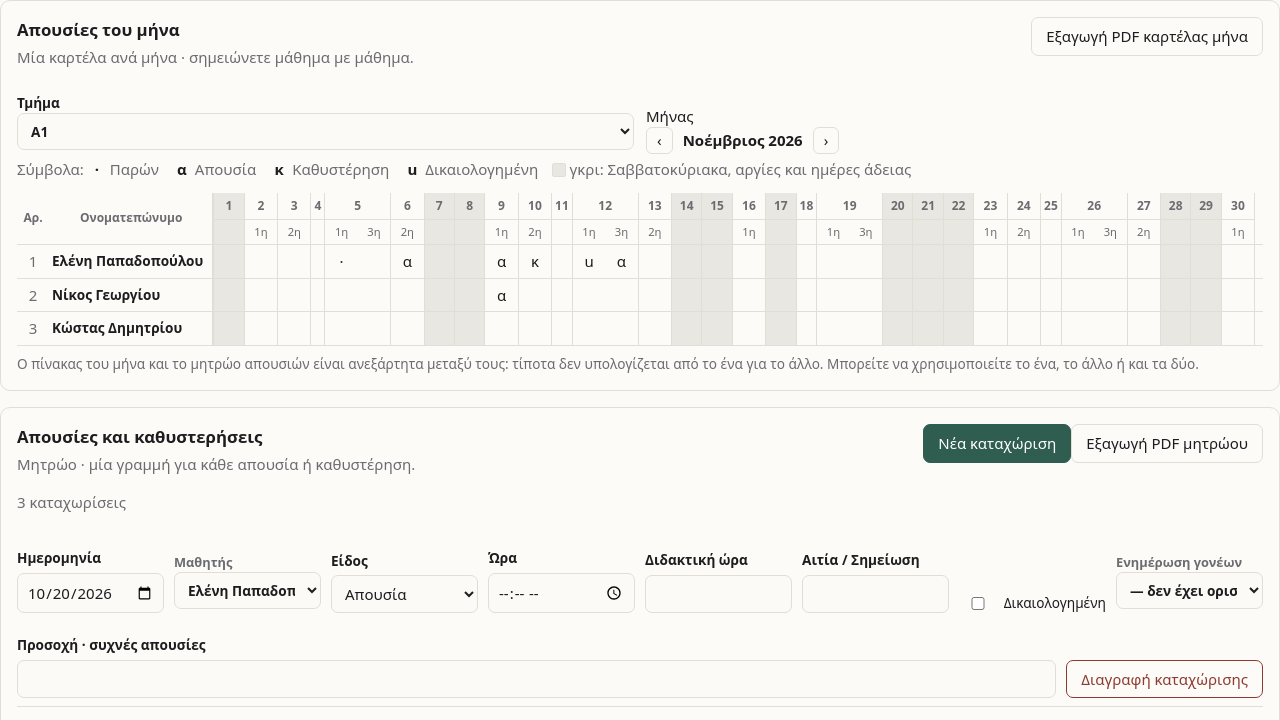
the monthly attendance grid › steps to the next and previous month without spilling into either
Click the button named "Επόμενο": click(826, 141) [813,127,839,154]
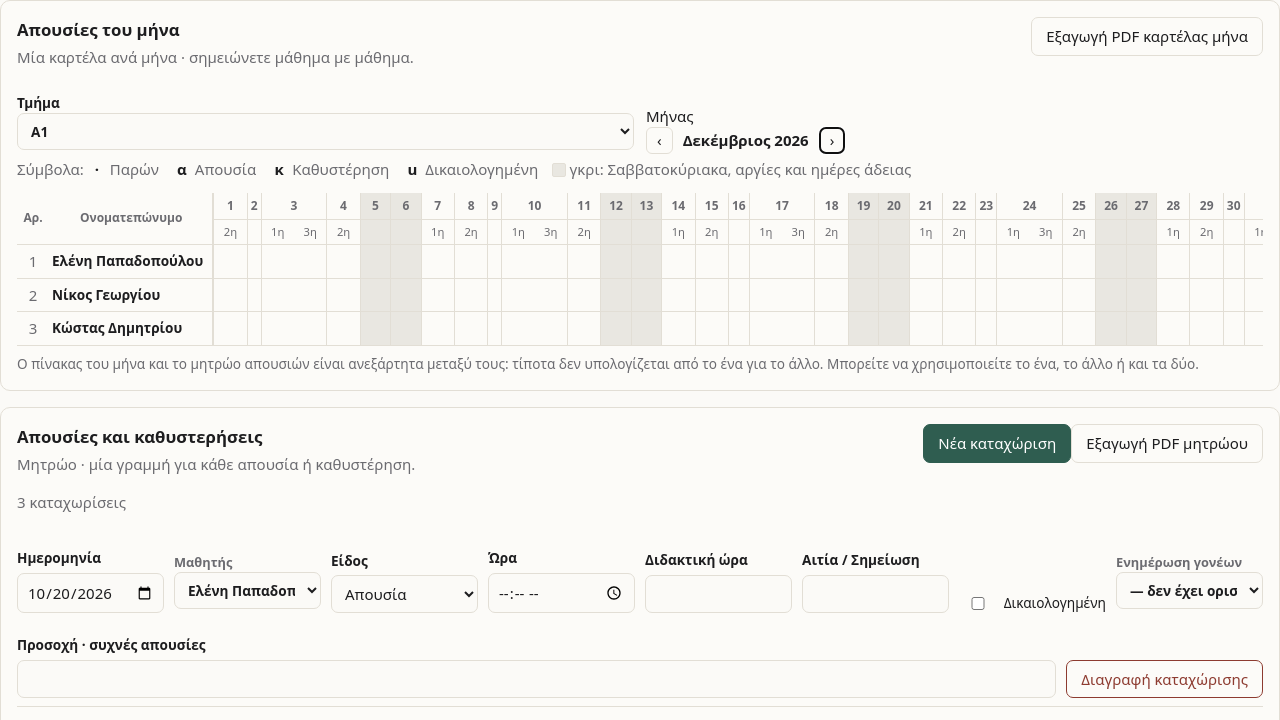
Check: the text "Δεκέμβριος 2026" is shown, box [683,129,809,152]
Click the button named "Προηγούμενο": click(659, 141) [646,127,673,154]
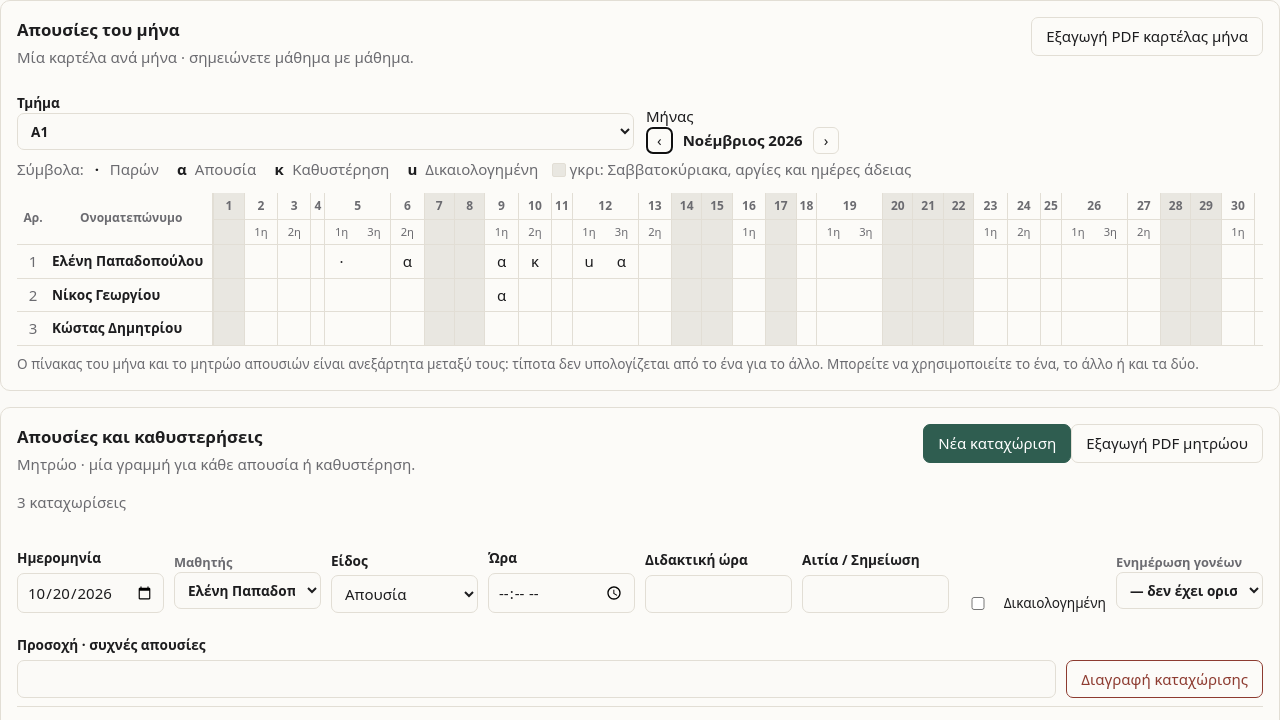
Click the button named "Προηγούμενο": click(659, 141) [646,127,673,154]
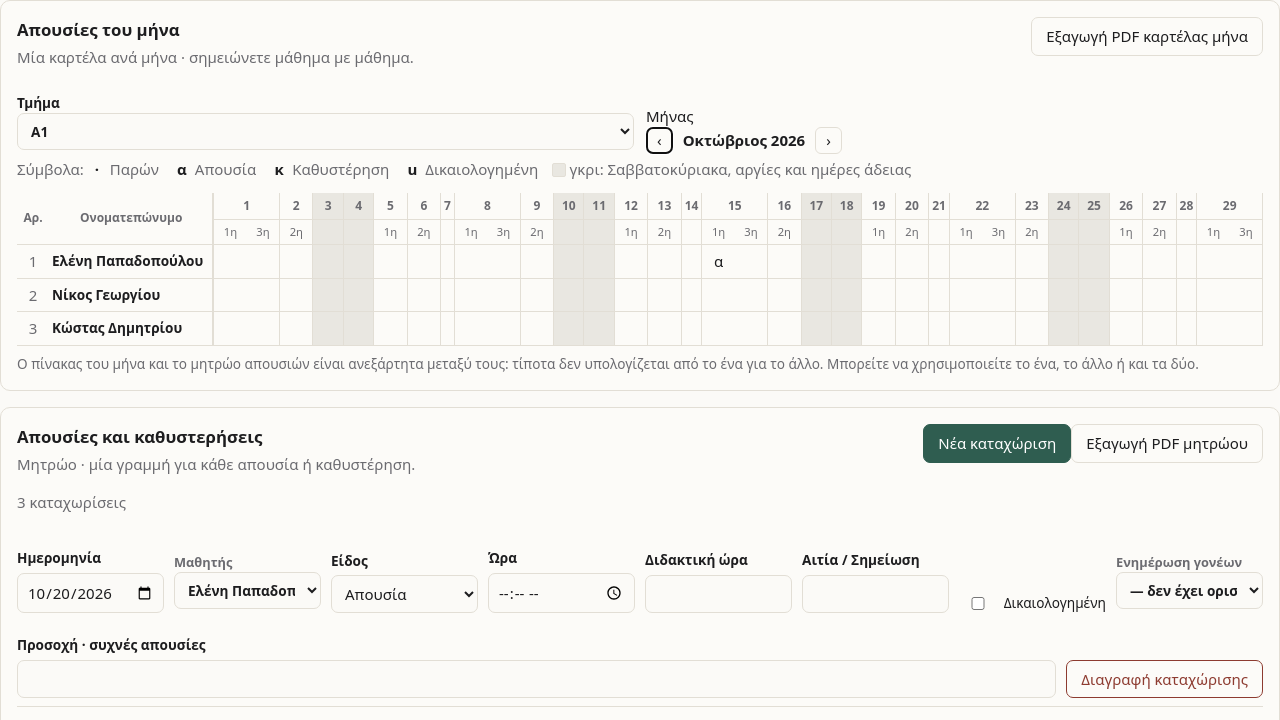
Check: the text "Οκτώβριος 2026" is shown, box [683,129,805,152]
